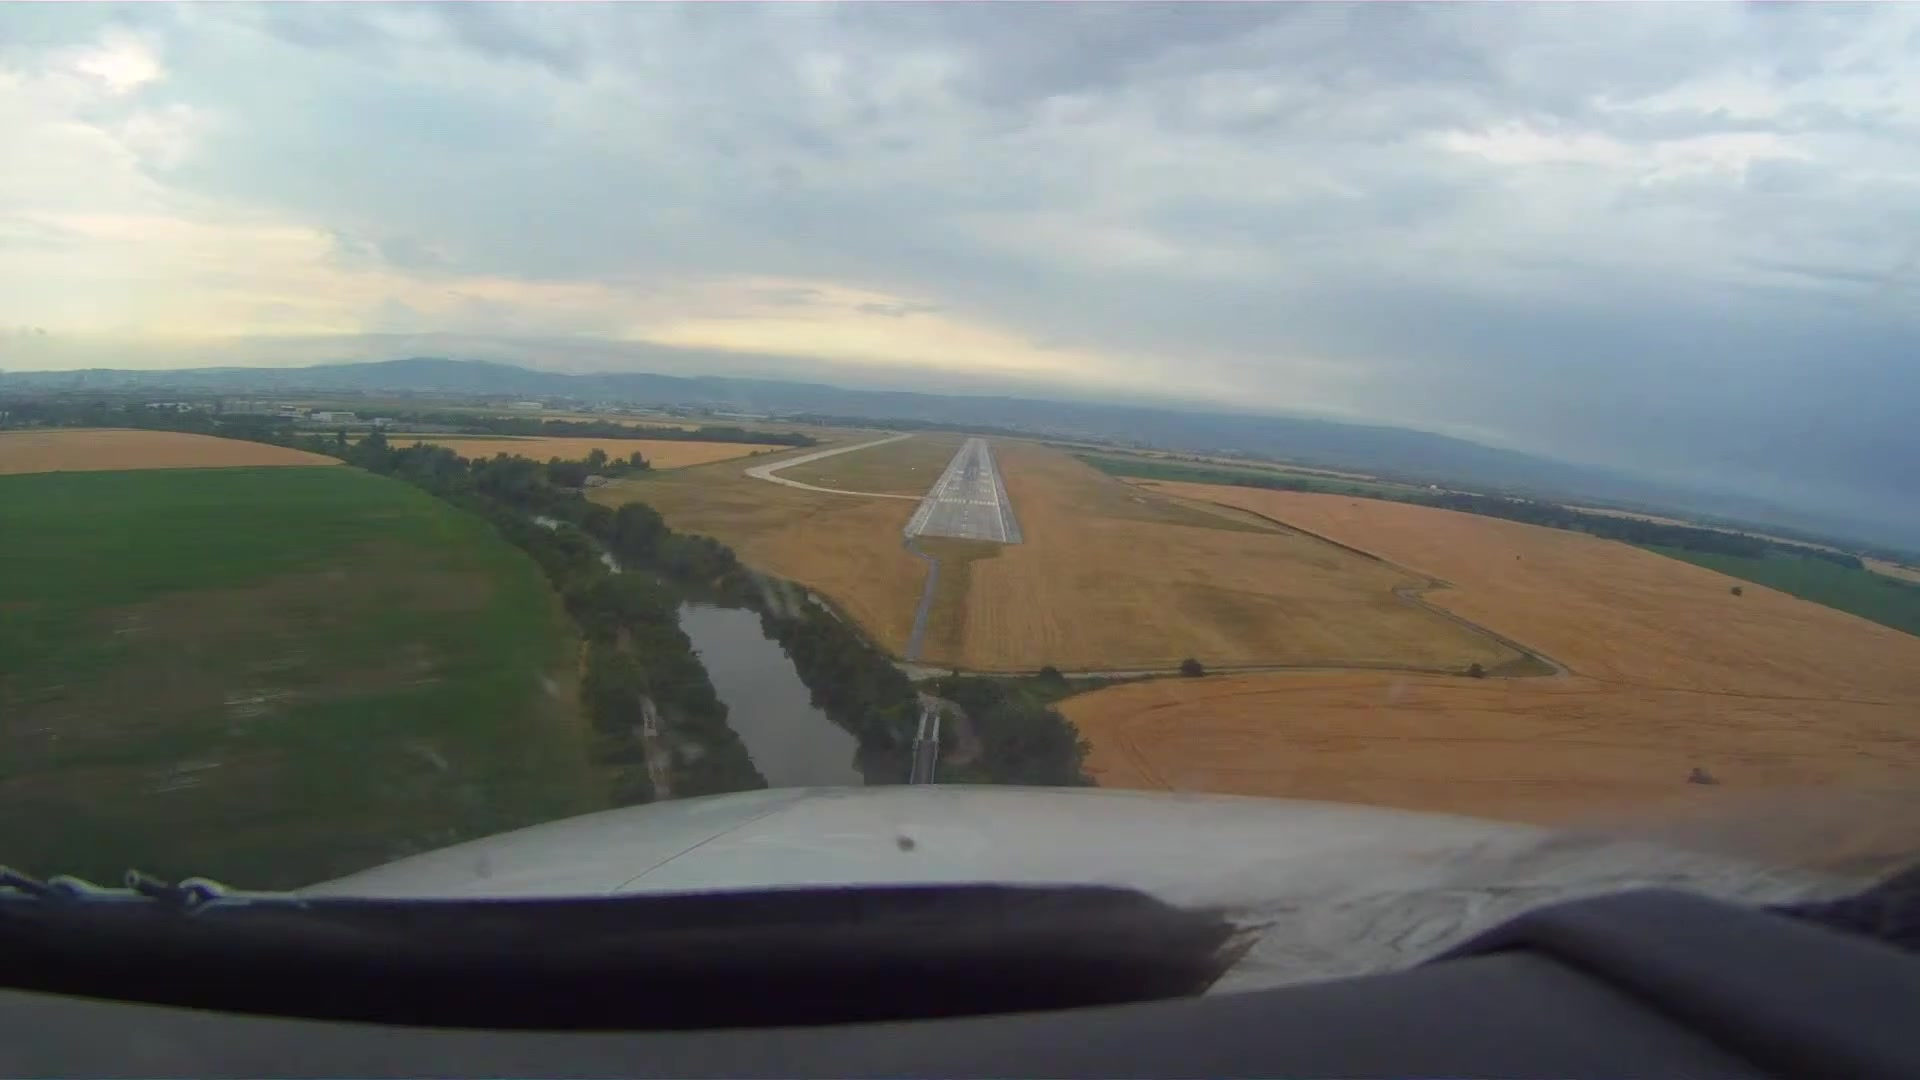entrance: (938, 495, 1000, 509)
runway: (905, 434, 1021, 549)
